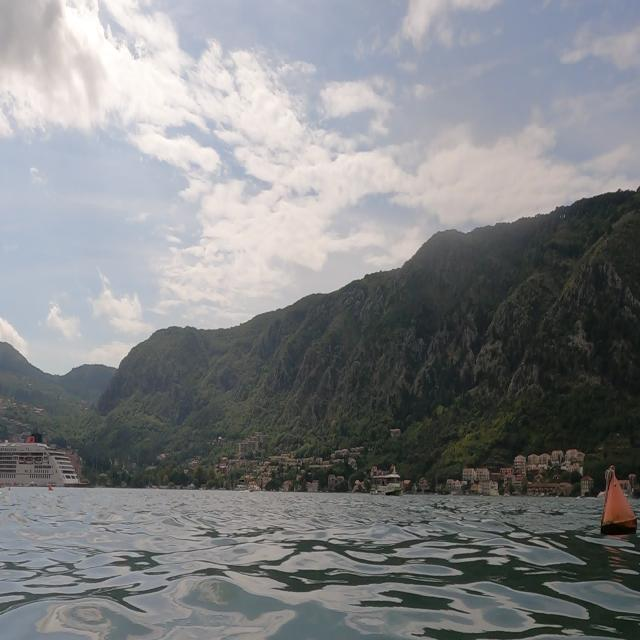boat: (2, 426, 84, 496)
buoy: (597, 462, 638, 542)
